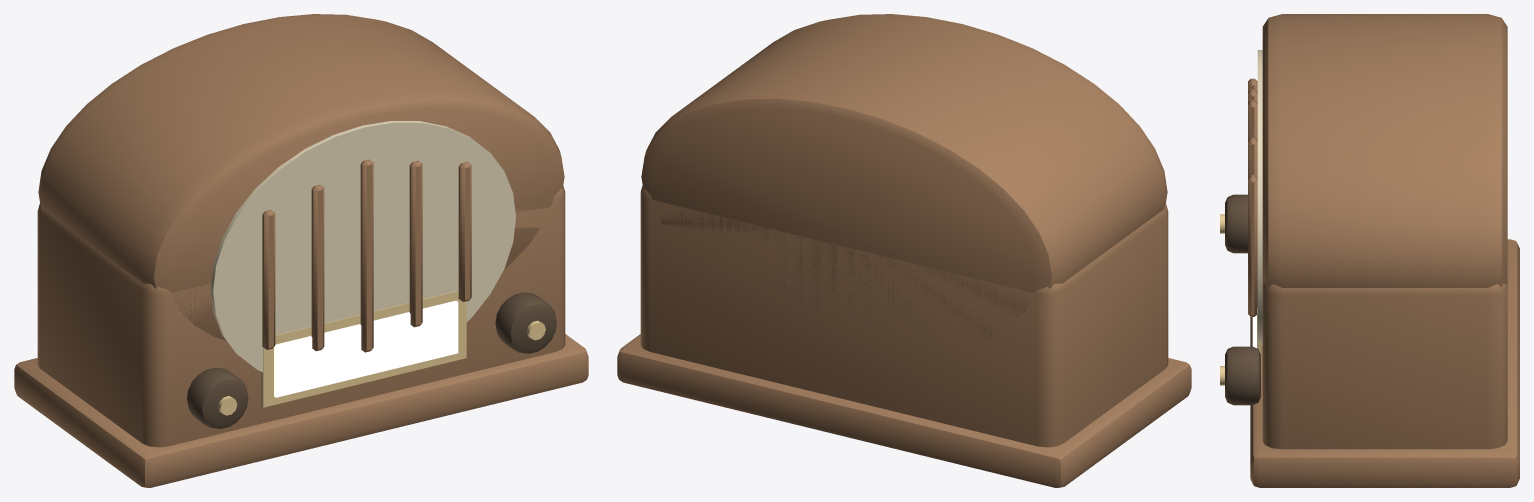
Rendered from radio.glb.
The picture shows the model from 3 angles, left to right: view 1: azimuth 30°, elevation 25°; view 2: azimuth 150°, elevation 25°; view 3: azimuth 270°, elevation 25°; orthographic projection.
Visible parts, largest first — view 1: radio; view 2: radio; view 3: radio.
Part boxes in pixels (x1,y1,x2,y2): radio: [14, 14, 588, 487]; radio: [617, 14, 1191, 487]; radio: [1220, 14, 1519, 487].
Bounding box in the file's own units: 0.32 × 0.2225 × 0.1835.
